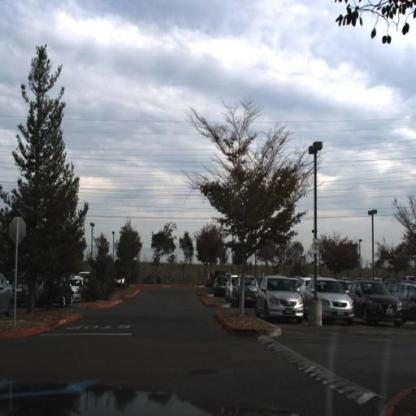car: (350, 280, 402, 324), (255, 274, 302, 322), (306, 278, 353, 324), (38, 276, 72, 308), (232, 273, 259, 306), (232, 276, 256, 307), (17, 274, 36, 310), (0, 275, 14, 323), (68, 275, 86, 303), (225, 272, 240, 300), (11, 277, 25, 304), (71, 275, 83, 303), (213, 272, 227, 296), (214, 275, 230, 296)
